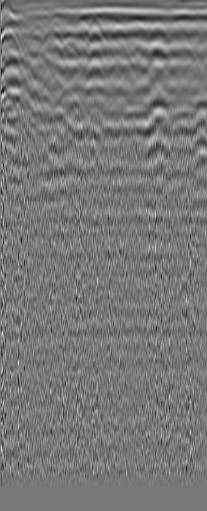오수: (21, 18, 53, 50)
우수: (173, 44, 199, 69)
